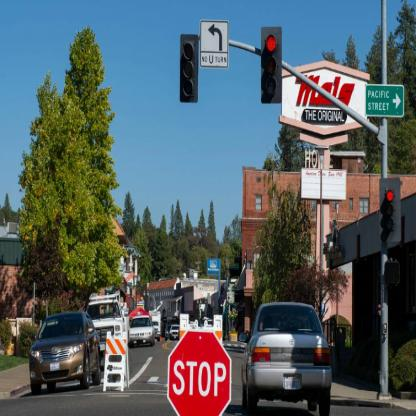red: (261, 25, 283, 104), (379, 177, 401, 242)
